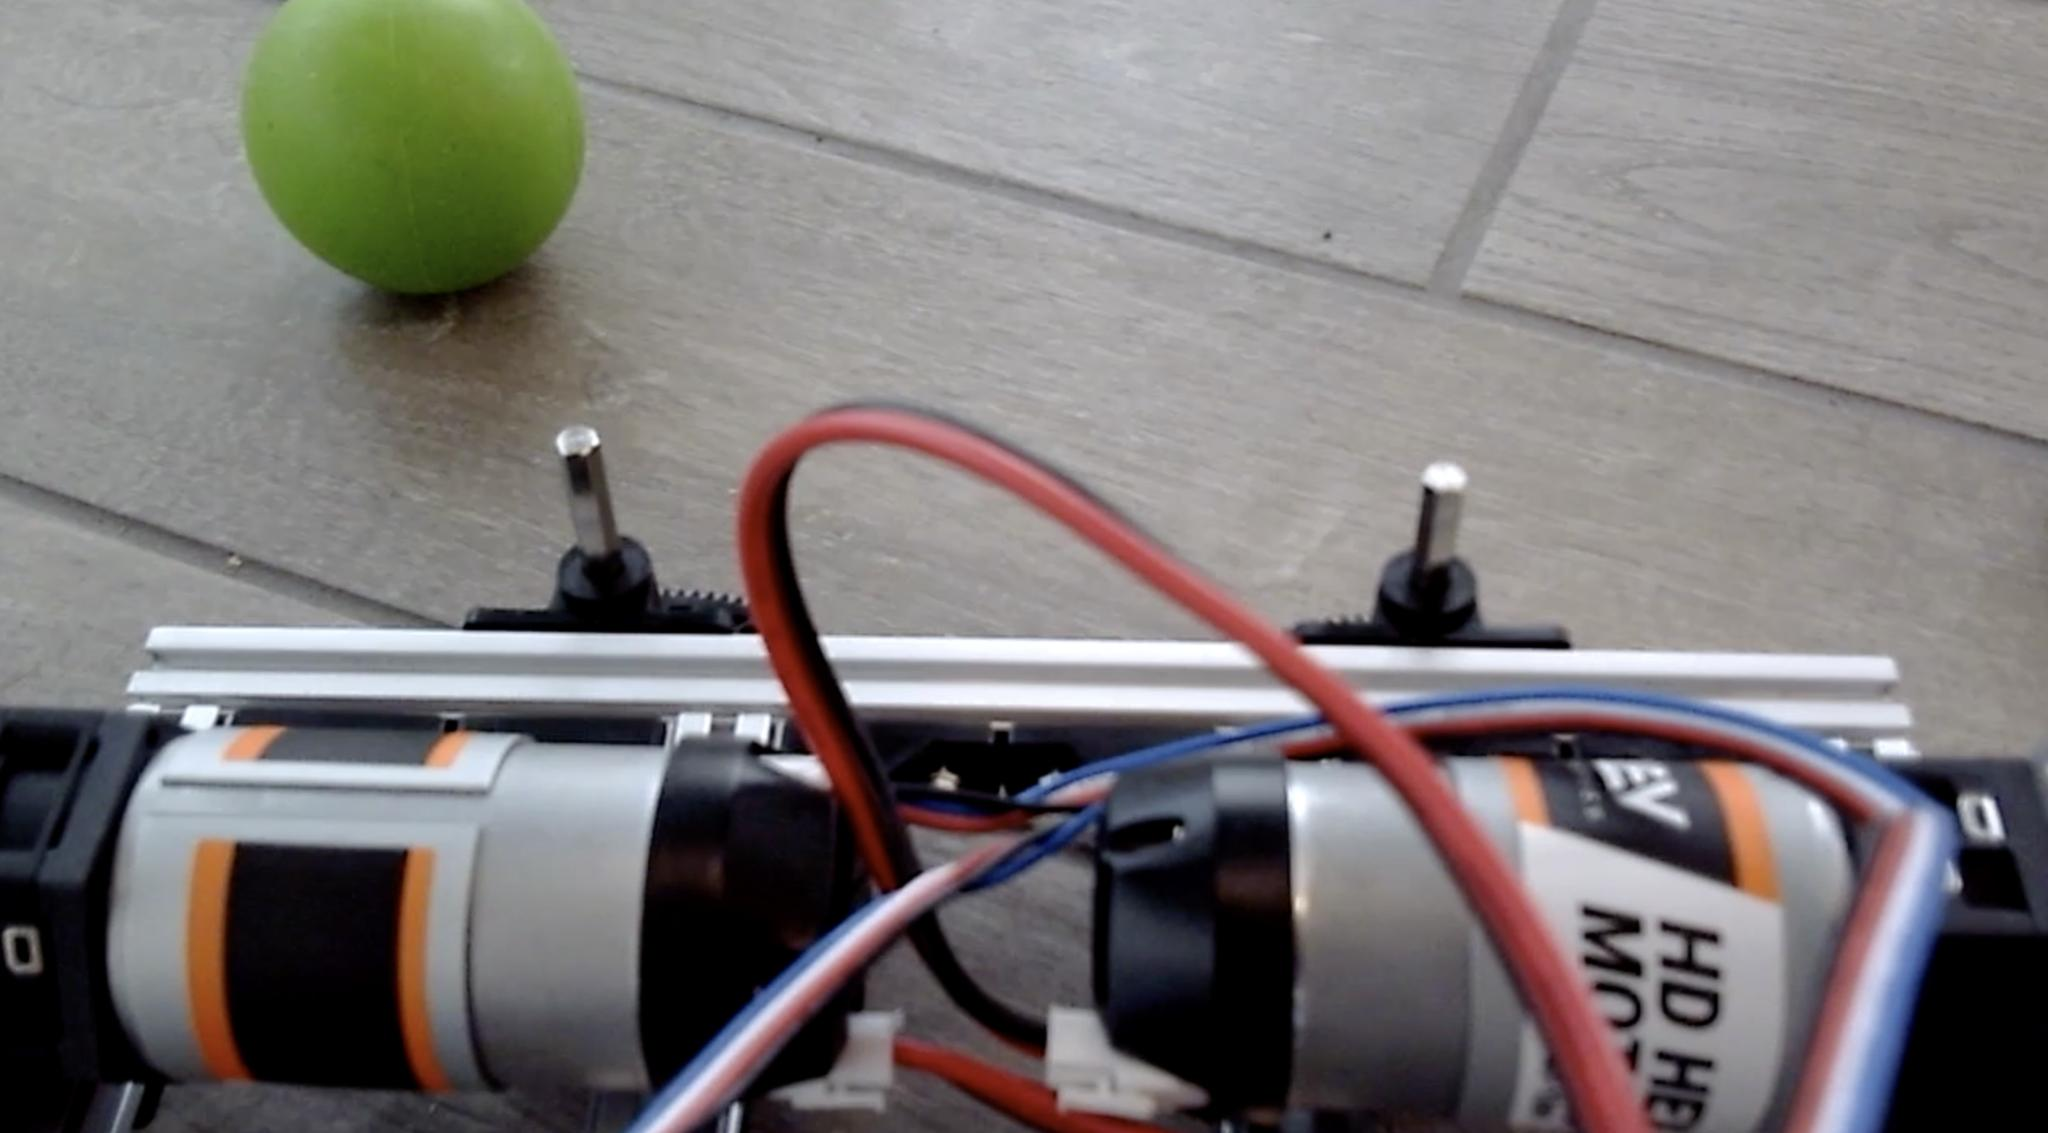Green Ball: (237, 0, 587, 299)
